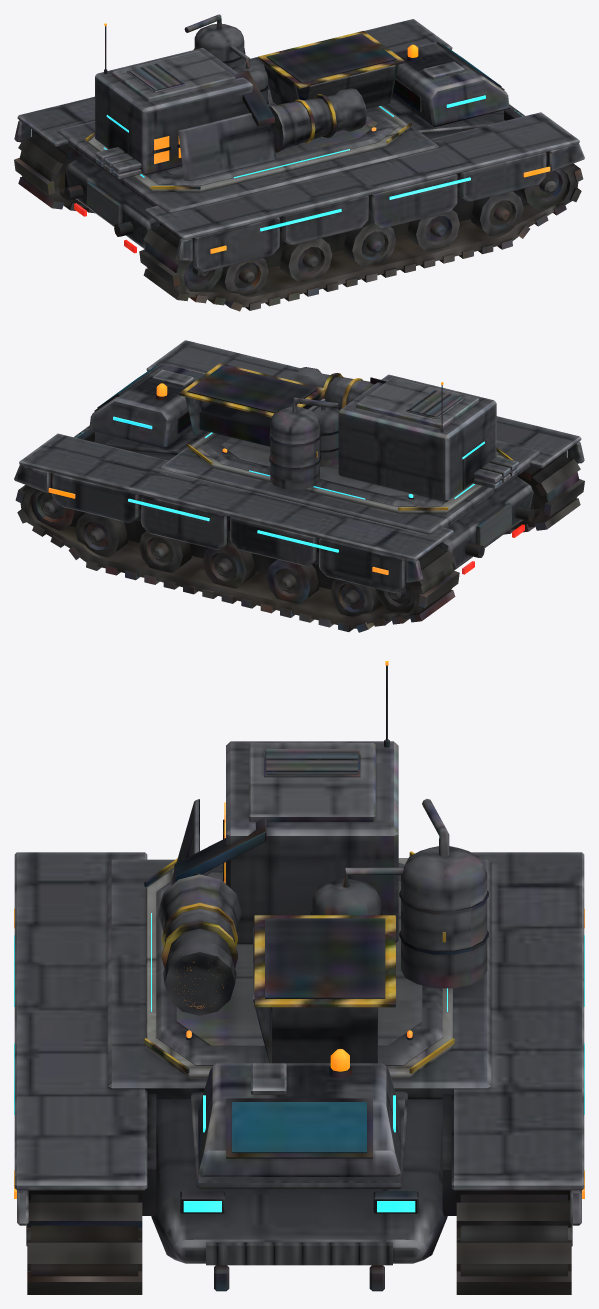
The model's file is metal_station_packed.glb.
3 views of the same model, one above another, from view 1: azimuth 30°, elevation 25°; view 2: azimuth 150°, elevation 25°; view 3: azimuth 270°, elevation 25° (orthographic). The views are drawn at different scales.
Parts seen in each view (by area): view 1: Hull; view 2: Hull; view 3: Hull.
Part boxes in pixels (x1,y1,x2,y2): Hull: (14, 14, 584, 311); Hull: (14, 340, 584, 632); Hull: (14, 661, 584, 1294).
Size of the model in its own units: 6.54 by 3.26 by 4.47.
1 material, 1 textured.
